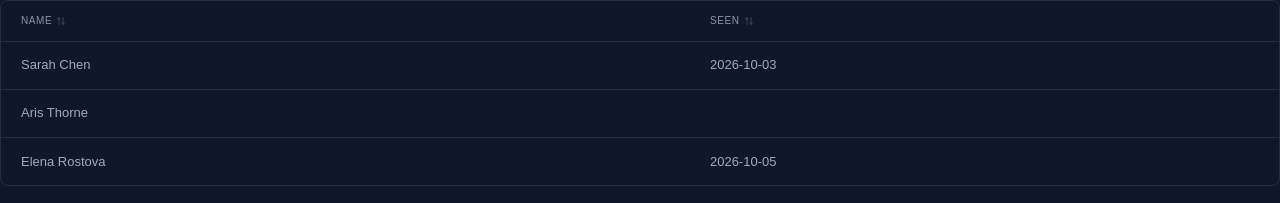
clicking a sortable header sorts by it, then reverses, then clears
Later steps or results of the test are not shown.
Click the button "Name": (44, 21) [21, 13, 66, 28]
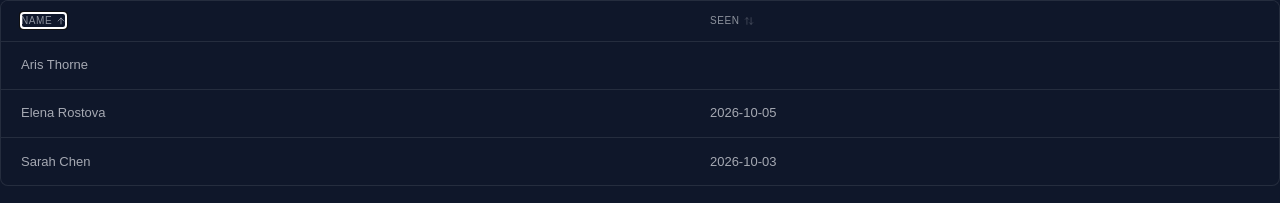
Check: the column heading "Name" has attribute aria-sort="ascending", box [1, 1, 690, 41]
